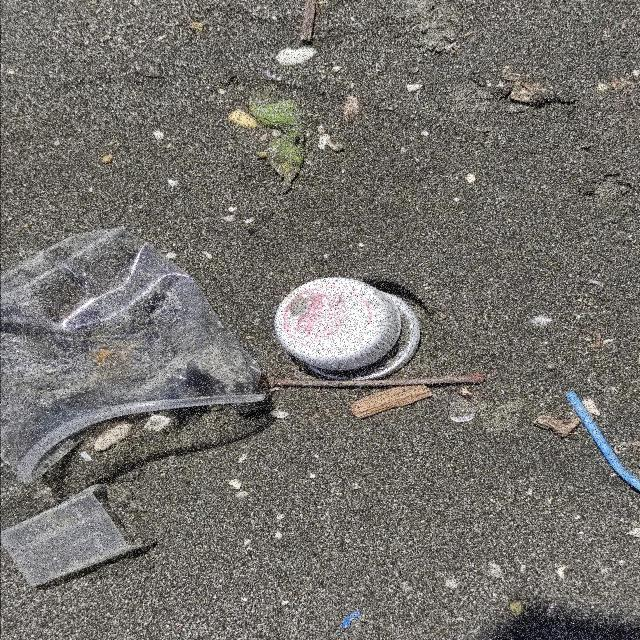plastic_waste: (1, 227, 271, 486), (273, 277, 422, 382)
